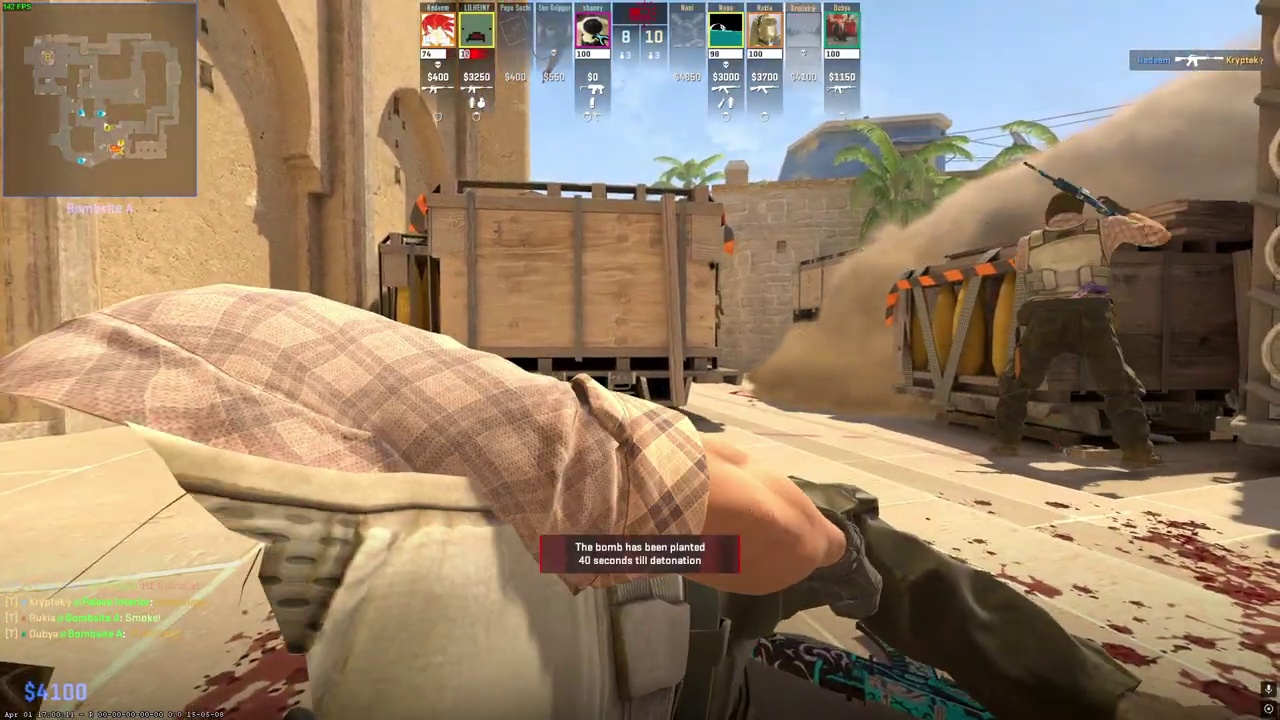Terrorist: (990, 191, 1160, 470)
